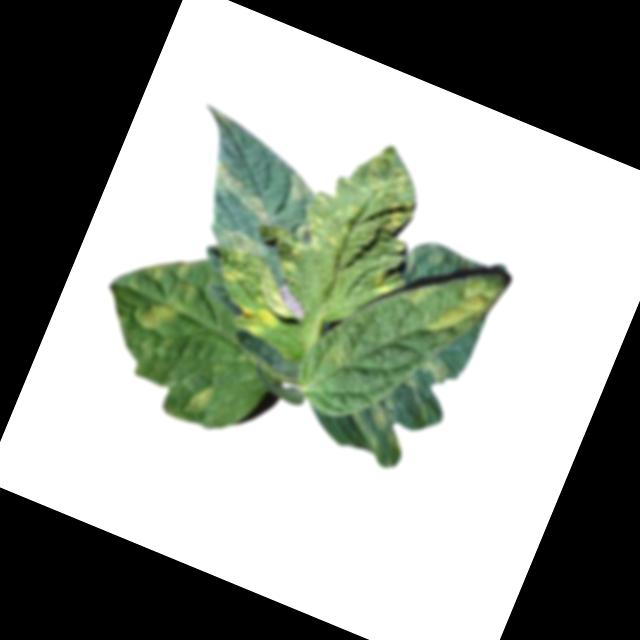Leaf_Mold: (294, 125, 444, 281), (420, 260, 507, 355), (123, 248, 204, 341), (336, 386, 419, 471), (200, 157, 286, 226), (224, 291, 291, 346), (207, 218, 277, 266), (184, 376, 219, 420), (419, 351, 460, 386), (285, 166, 320, 202), (369, 267, 401, 299)
